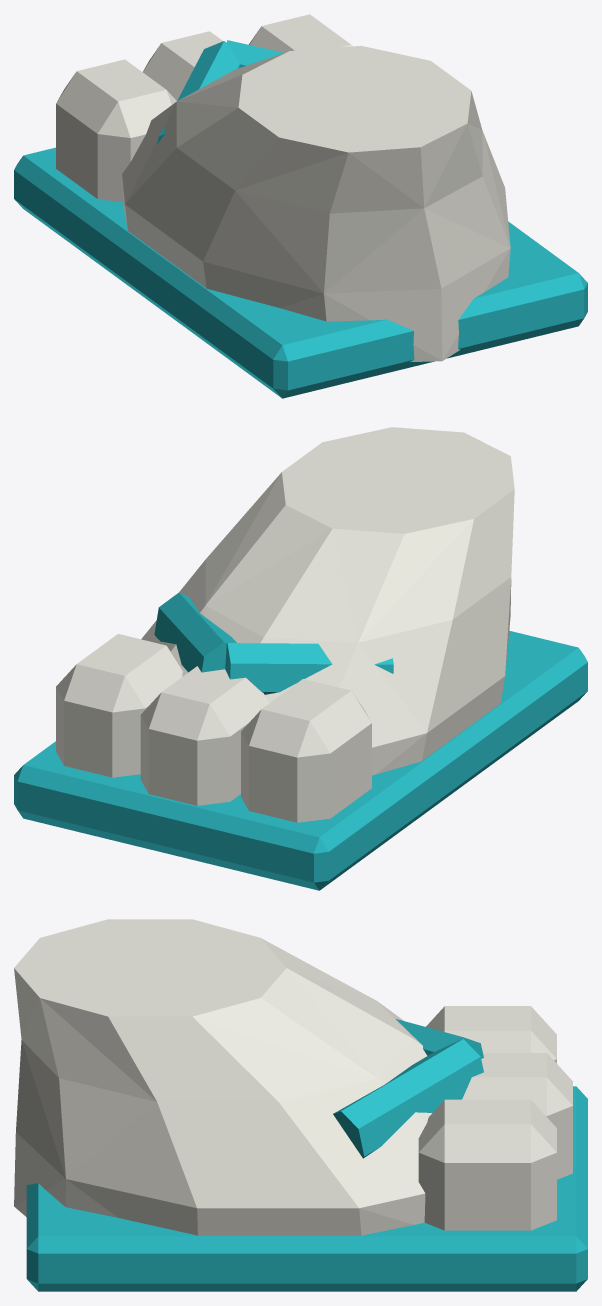
Rendered from Ghost_Foot_R.glb.
3 views of the same model, one above another, from view 1: azimuth 30°, elevation 25°; view 2: azimuth 150°, elevation 25°; view 3: azimuth 270°, elevation 25° (orthographic). The views are drawn at different scales.
Visible parts, largest first — view 1: Right boot.015, Flip-flop sole.003, Separate toe.057, Separate toe.058, Separate toe.059, Open flip-flop strap segment.006, Open flip-flop strap segment.007; view 2: Right boot.015, Flip-flop sole.003, Separate toe.057, Separate toe.058, Separate toe.059, Open flip-flop strap segment.006, Open flip-flop strap segment.007; view 3: Right boot.015, Flip-flop sole.003, Separate toe.059, Open flip-flop strap segment.007, Separate toe.058, Separate toe.057, Open flip-flop strap segment.006.
Part boxes in pixels (x1,y1,x2,y2): Right boot.015: (122, 46, 510, 361); Flip-flop sole.003: (14, 147, 587, 398); Separate toe.057: (56, 59, 176, 202); Separate toe.058: (143, 31, 222, 100); Separate toe.059: (249, 14, 352, 52); Open flip-flop strap segment.006: (157, 41, 240, 143); Open flip-flop strap segment.007: (227, 40, 283, 67); Right boot.015: (141, 427, 514, 775); Flip-flop sole.003: (14, 630, 587, 890); Separate toe.057: (241, 679, 371, 822); Separate toe.058: (140, 666, 268, 805); Separate toe.059: (56, 634, 182, 777); Open flip-flop strap segment.006: (225, 643, 393, 694); Open flip-flop strap segment.007: (154, 592, 236, 672); Right boot.015: (14, 919, 431, 1235); Flip-flop sole.003: (26, 1086, 587, 1291); Separate toe.059: (418, 1099, 556, 1230); Open flip-flop strap segment.007: (333, 1039, 483, 1158); Separate toe.058: (461, 1053, 572, 1179); Separate toe.057: (426, 1006, 556, 1063); Open flip-flop strap segment.006: (396, 1019, 483, 1058).
Bounding box in the file's own units: 0.23 × 0.16 × 0.35.
